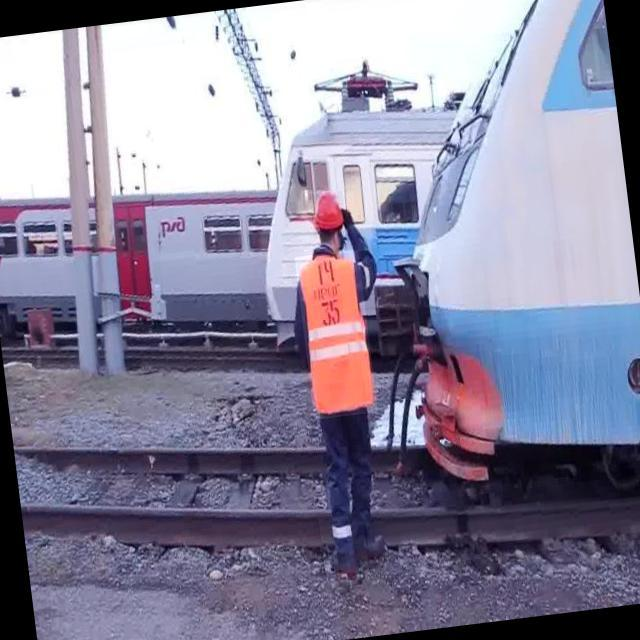Gloves: (333, 198, 358, 240)
Helmet: (309, 191, 346, 233)
Person: (276, 171, 414, 599)
Safety Boot: (318, 514, 354, 587), (359, 514, 396, 571)
Safety Vest: (295, 249, 379, 420)
